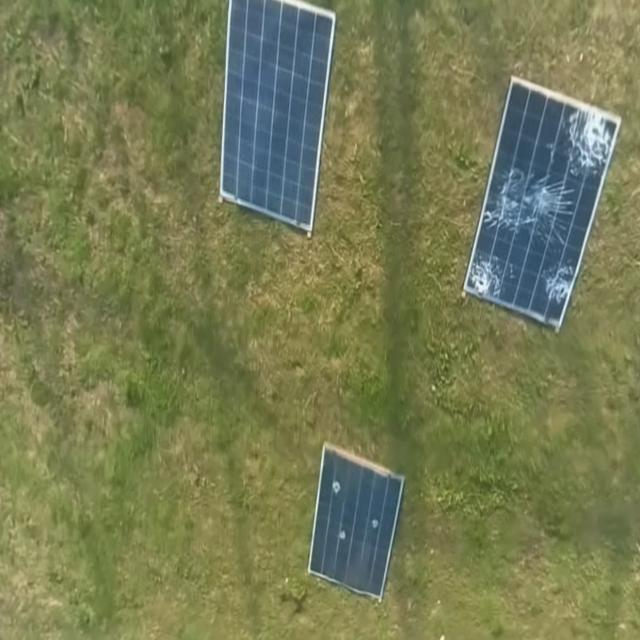faulty: (467, 76, 625, 332), (308, 443, 402, 602)
no faulty: (229, 0, 324, 223)
